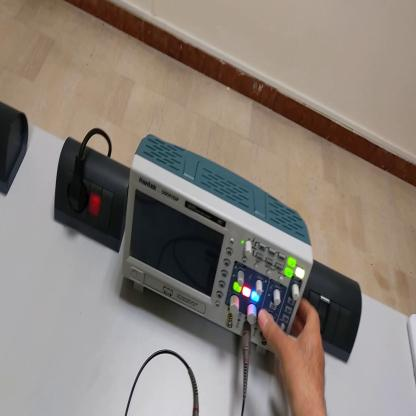hand: (259, 296, 328, 416)
oscilloscope: (120, 137, 315, 357)
oscilloscope probe tip: (191, 370, 200, 415)
socket: (54, 140, 133, 254), (2, 96, 29, 197)
